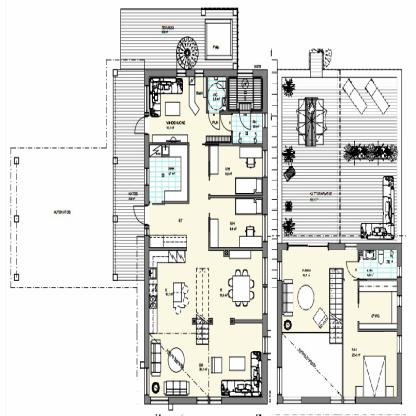door: (345, 257, 362, 279), (132, 204, 149, 225), (239, 108, 252, 134), (219, 112, 232, 135), (210, 110, 221, 132), (132, 116, 147, 132)
window: (262, 258, 270, 316), (290, 243, 326, 250), (262, 150, 269, 178), (263, 213, 269, 242), (236, 68, 253, 78), (151, 394, 167, 404), (261, 336, 269, 354), (329, 393, 340, 405), (193, 69, 206, 78), (276, 368, 280, 395), (275, 261, 282, 276), (396, 337, 402, 354), (282, 397, 302, 402), (210, 397, 220, 406), (262, 113, 268, 127), (198, 395, 207, 404), (344, 398, 357, 404), (177, 70, 186, 78), (396, 269, 402, 280), (346, 243, 357, 249), (398, 295, 402, 307)
zone: (284, 76, 396, 240), (148, 250, 262, 396), (149, 148, 263, 248), (145, 77, 264, 143), (121, 6, 236, 67), (113, 72, 146, 280), (341, 246, 397, 332), (282, 249, 340, 332), (282, 334, 343, 397), (342, 330, 397, 397)
